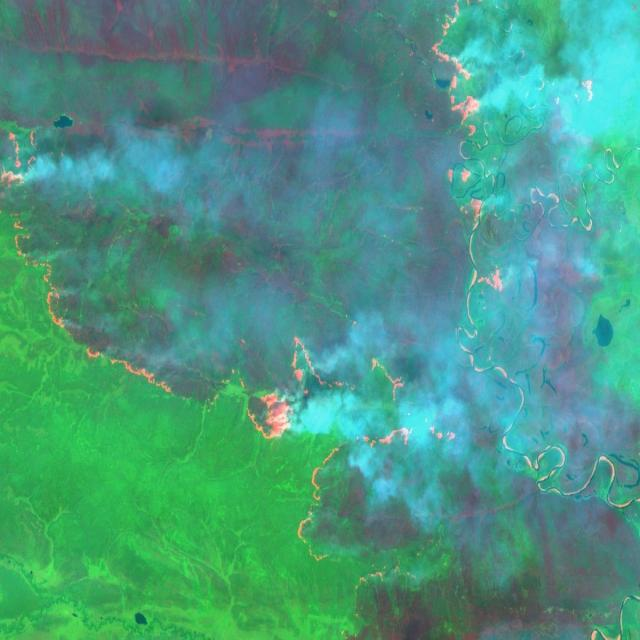fire: (241, 329, 460, 590), (0, 121, 179, 400), (427, 0, 511, 308), (566, 71, 598, 119)
